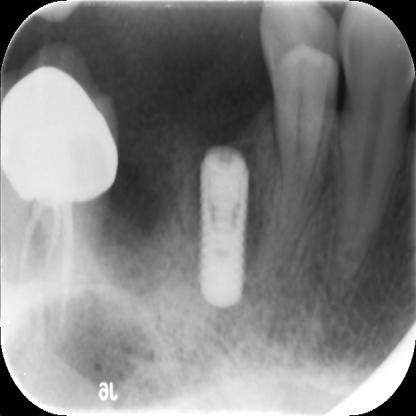ITI: (194, 140, 252, 309)
